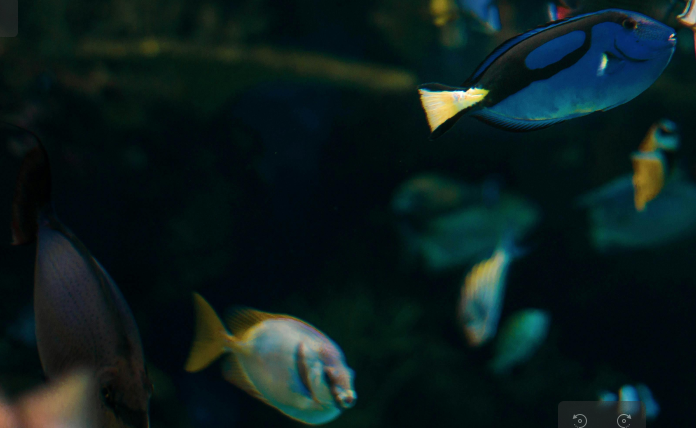fishRound: (417, 7, 677, 144), (187, 290, 357, 426)
